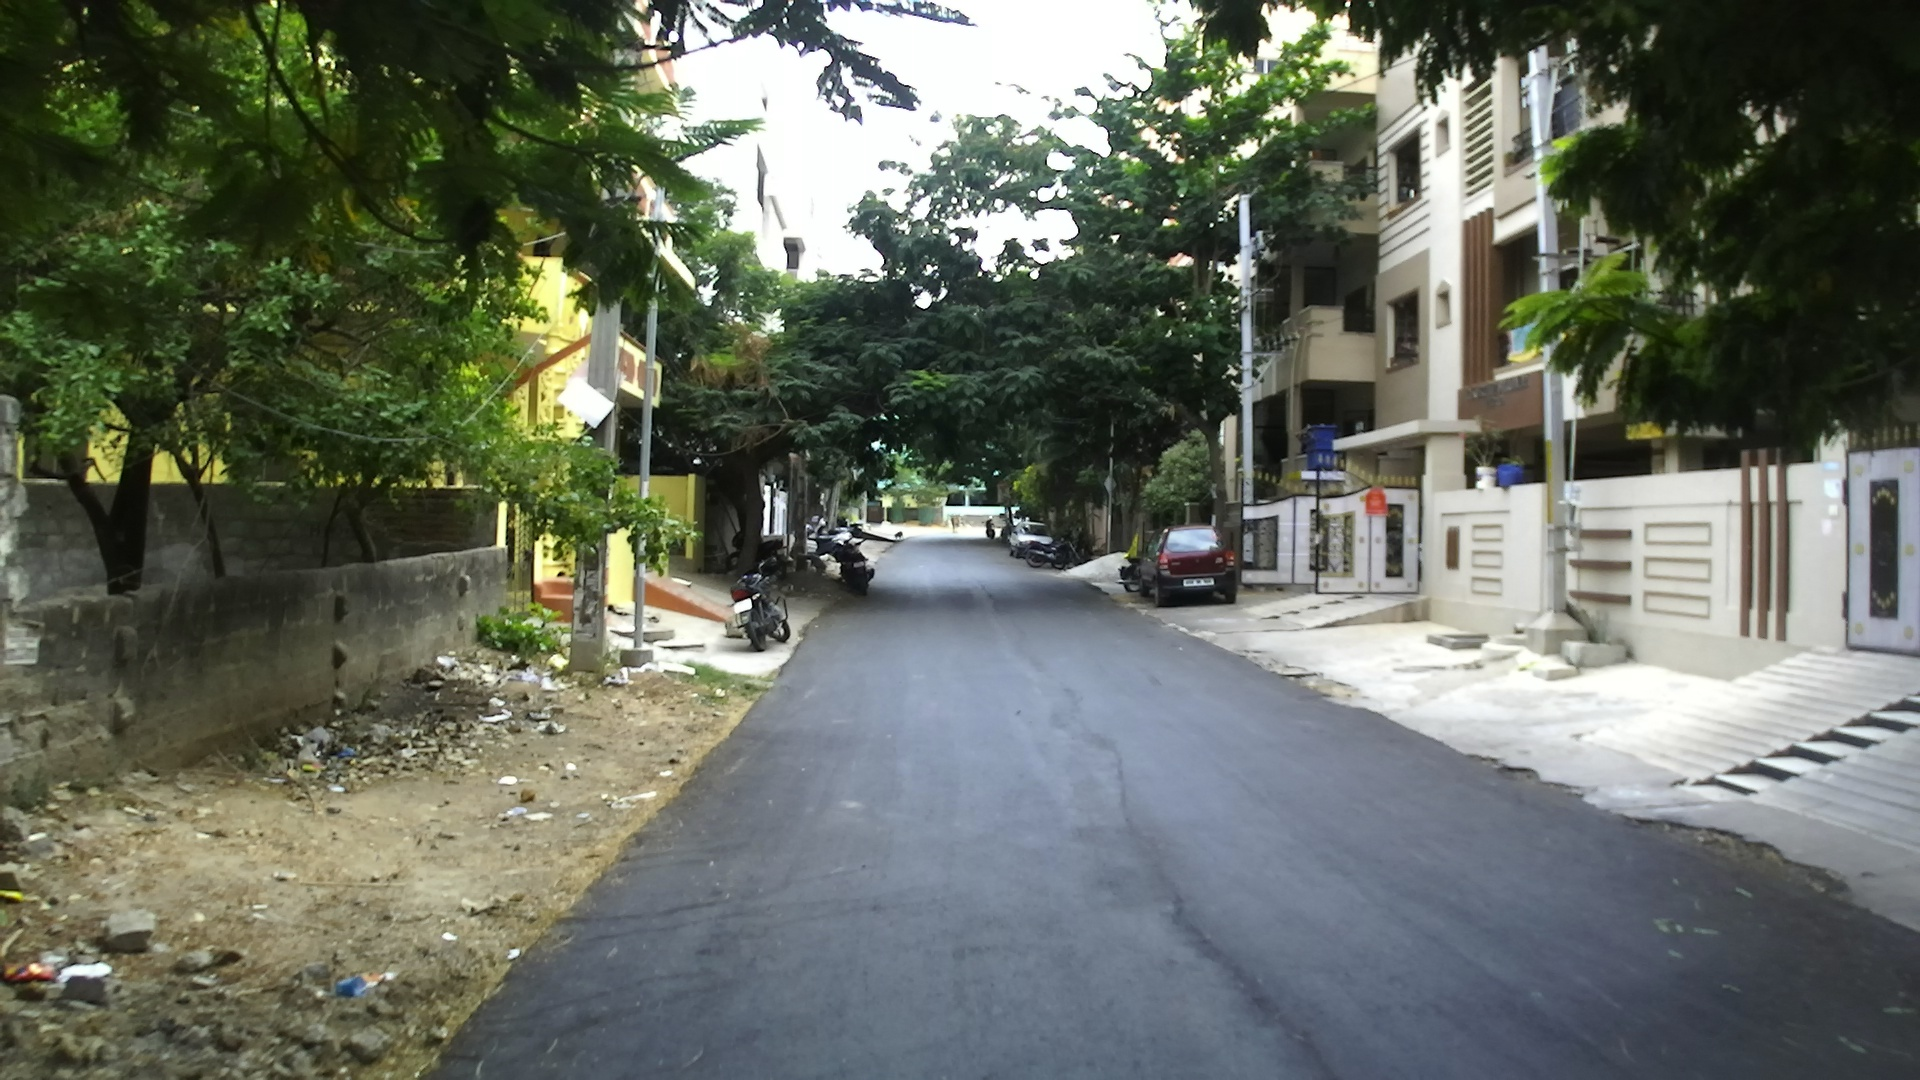vehicle: (1153, 527, 1242, 603), (1009, 524, 1062, 566), (1006, 520, 1058, 559)
